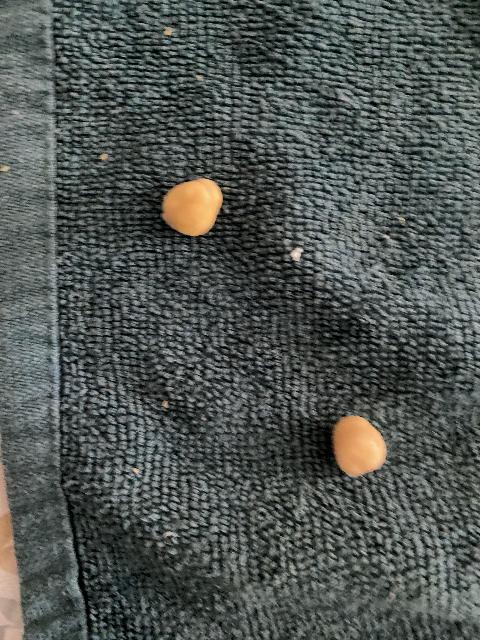Organik: (160, 175, 222, 243), (333, 410, 392, 478)
